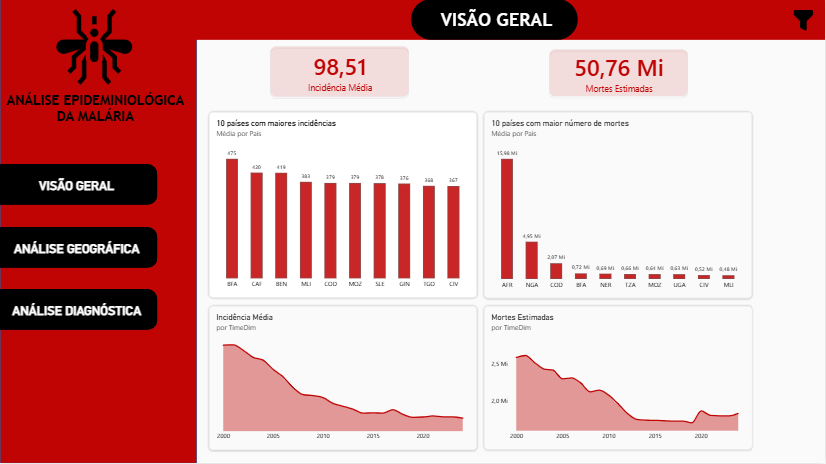

What the dashboard file says about the page in this screenshot:
{"tool":"powerbi","page":{"name":"Visão Geral","canvas":[1920,1080],"ordinal":0},"visuals":[{"type":"shape","box":[0,0,457.8,1080],"z":0,"group":"g1"},{"type":"group","id":"g1","title":"Grupo 1","box":[0,0,457.8,1080],"z":0,"group":"g2"},{"type":"cardVisual","fields":{"Data":["Medidas.Incidência Média"]},"box":[623.3,105,333.3,128.3],"z":0},{"type":"shape","box":[0,384.3,366.3,95.2],"z":0,"group":"g5"},{"type":"shape","box":[0,531.3,366.3,95.2],"z":0,"group":"g4"},{"type":"shape","box":[0,673.5,366.3,95.2],"z":0,"group":"g3"},{"type":"textbox","box":[406.2,0,1515,95],"z":1000,"group":"g2"},{"type":"image","box":[101.6,24.3,233.4,175.6],"z":1000,"group":"g1"},{"type":"textbox","box":[0,415.7,356.6,35.3],"z":1000,"group":"g5"},{"type":"shape","box":[0,539.8,366.3,95.2],"z":1000},{"type":"textbox","box":[0,562.7,356.6,35.3],"z":1000,"group":"g4"},{"type":"textbox","box":[0,704.9,356.6,35.3],"z":1000,"group":"g3"},{"type":"textbox","box":[0,216.7,443.3,81.7],"z":2000,"group":"g1"},{"type":"shape","box":[0,561.4,366.3,95.2],"z":2000},{"type":"cardVisual","fields":{"Data":["Medidas.Mortes Estimadas"]},"box":[1271.4,112.7,333.3,120.6],"z":3000},{"type":"columnChart","title":"10 países com maiores incidências","fields":{"Category":["Fato_Malaria.SpatialDim"],"Y":["Avg(Fato_Malaria.NumericValue)"]},"box":[486.7,263.3,623.3,431.7],"z":4000},{"type":"columnChart","title":"10 países com maior número de mortes","fields":{"Category":["Dim_Geografia_Final.SpatialDim"],"Y":["Medidas.Mortes Estimadas"]},"box":[1126.7,263.3,623.3,433.3],"z":5000},{"type":"lineChart","fields":{"Category":["Dim_Ano.TimeDim"],"Y":["Medidas.Mortes Estimadas"]},"box":[1126,714,624,334],"z":6000},{"type":"lineChart","fields":{"Category":["Dim_Ano.TimeDim"],"Y":["Medidas.Incidência Média"]},"box":[486.7,713.3,623.3,335],"z":7000},{"type":"group","id":"g2","title":"Grupo 2","box":[0,0,1921.2,1080],"z":8000},{"type":"image","box":[1841.7,25,53.3,48.3],"z":9000},{"type":"actionButton","box":[1830,17.5,75,62.5],"z":10000},{"type":"group","id":"g3","title":"Grupo 3","box":[0,673.5,366.3,95.2],"z":12000},{"type":"group","id":"g4","title":"Grupo 3","box":[0,530.6,366.3,95.9],"z":13000},{"type":"group","id":"g5","title":"Grupo 3","box":[0,384.3,366.3,95.2],"z":14000},{"type":"shape","box":[956.9,0,387.9,94.8],"z":14001,"group":"g2"},{"type":"textbox","box":[598.3,24.1,1113.8,55.2],"z":15000},{"type":"actionButton","box":[0,530.6,366,95.7],"z":15002,"group":"g4"},{"type":"actionButton","box":[0,672.5,367.5,95],"z":16000}]}

Visuals, with their boxes in screenshot pixels (x1, y1, x2, y2), scaled from the page's 1920x1080 canvas onto the 826x464 screenshot:
shape: <bbox>0, 0, 197, 463</bbox>
"Grupo 1" group: <bbox>0, 0, 197, 463</bbox>
cardVisual - Medidas.Incidência Média: <bbox>268, 45, 412, 100</bbox>
shape: <bbox>0, 165, 158, 206</bbox>
shape: <bbox>0, 228, 158, 269</bbox>
shape: <bbox>0, 289, 158, 330</bbox>
textbox: <bbox>175, 0, 825, 41</bbox>
image: <bbox>44, 10, 144, 86</bbox>
textbox: <bbox>0, 179, 153, 194</bbox>
shape: <bbox>0, 232, 158, 273</bbox>
textbox: <bbox>0, 242, 153, 257</bbox>
textbox: <bbox>0, 303, 153, 318</bbox>
textbox: <bbox>0, 93, 191, 128</bbox>
shape: <bbox>0, 241, 158, 282</bbox>
cardVisual - Medidas.Mortes Estimadas: <bbox>547, 48, 690, 100</bbox>
"10 países com maiores incidências" columnChart: <bbox>209, 113, 478, 299</bbox>
"10 países com maior número de mortes" columnChart: <bbox>485, 113, 753, 299</bbox>
lineChart - Dim_Ano.TimeDim x Medidas.Mortes Estimadas: <bbox>484, 307, 753, 450</bbox>
lineChart - Dim_Ano.TimeDim x Medidas.Incidência Média: <bbox>209, 306, 478, 450</bbox>
"Grupo 2" group: <bbox>0, 0, 825, 463</bbox>
image: <bbox>792, 11, 815, 31</bbox>
actionButton: <bbox>787, 8, 820, 34</bbox>
"Grupo 3" group: <bbox>0, 289, 158, 330</bbox>
"Grupo 3" group: <bbox>0, 228, 158, 269</bbox>
"Grupo 3" group: <bbox>0, 165, 158, 206</bbox>
shape: <bbox>412, 0, 579, 41</bbox>
textbox: <bbox>257, 10, 737, 34</bbox>
actionButton: <bbox>0, 228, 157, 269</bbox>
actionButton: <bbox>0, 289, 158, 330</bbox>
